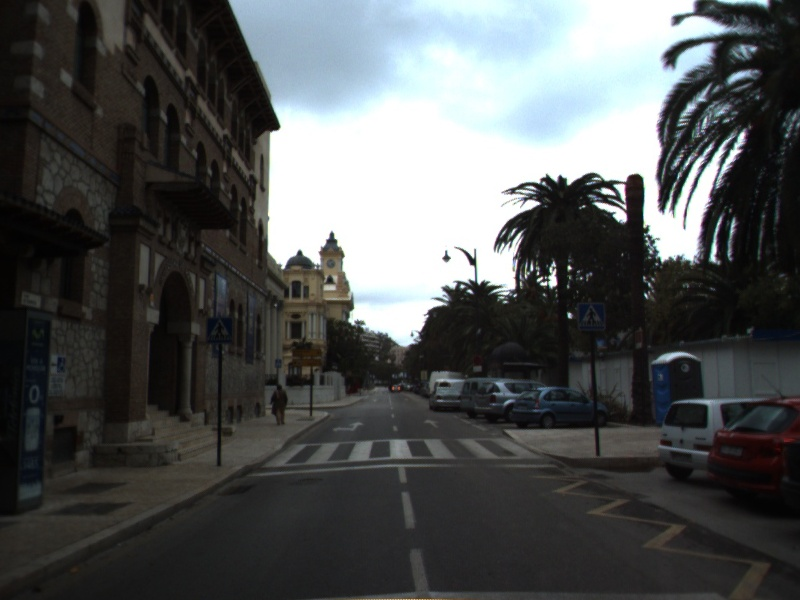STRAIGHT: (422, 417, 442, 430)
STRAIGHT_LEFT: (330, 420, 366, 434)
